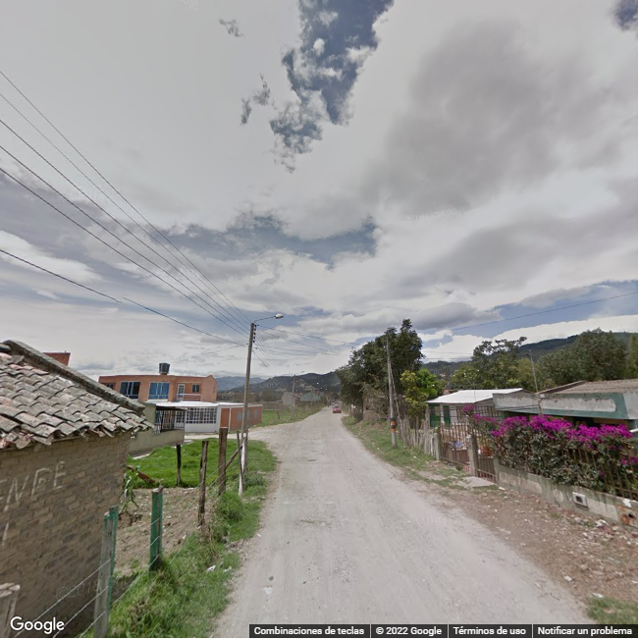D00: (405, 551, 455, 619)
D40: (297, 515, 331, 530)
